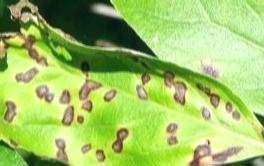Tomato leaf bacterial spot: (0, 0, 264, 166), (86, 0, 264, 123)
